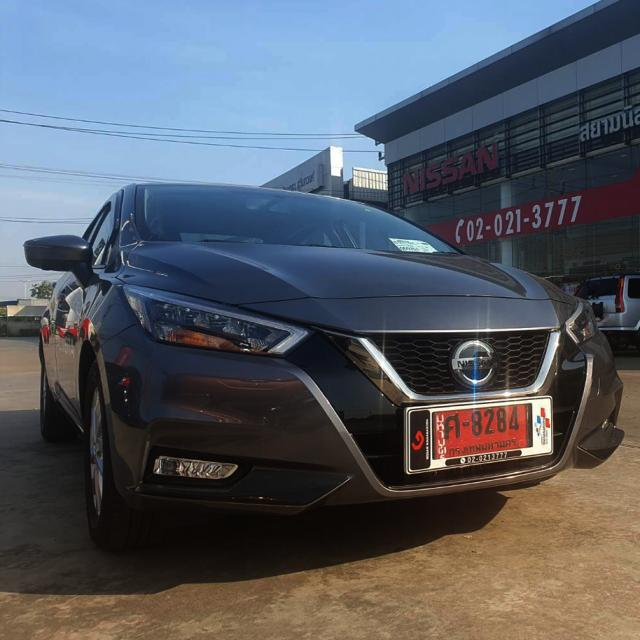license_plate: (403, 392, 557, 478)
